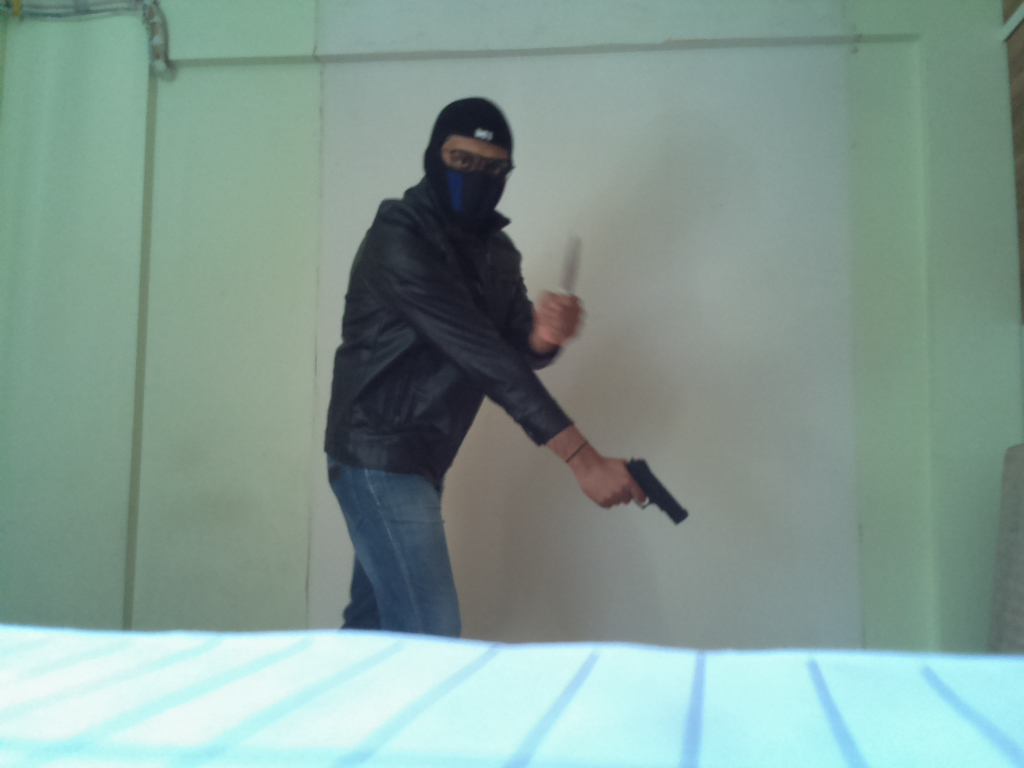gun: (608, 452, 695, 526)
